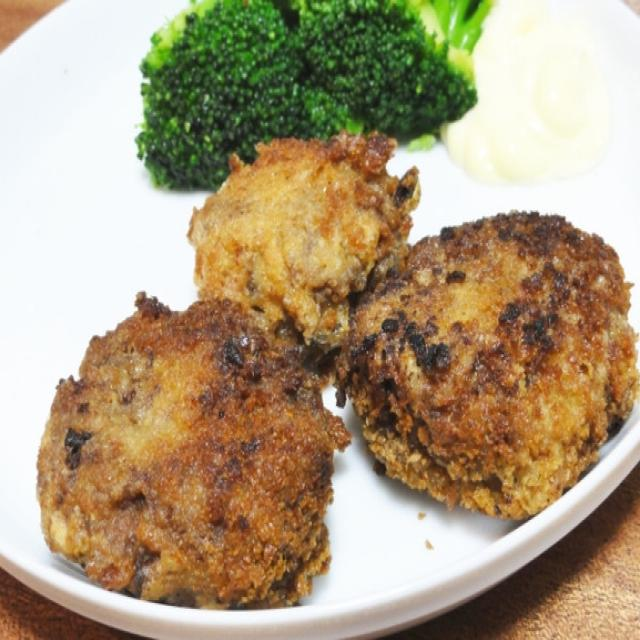炸货点心: (16, 40, 611, 615)
